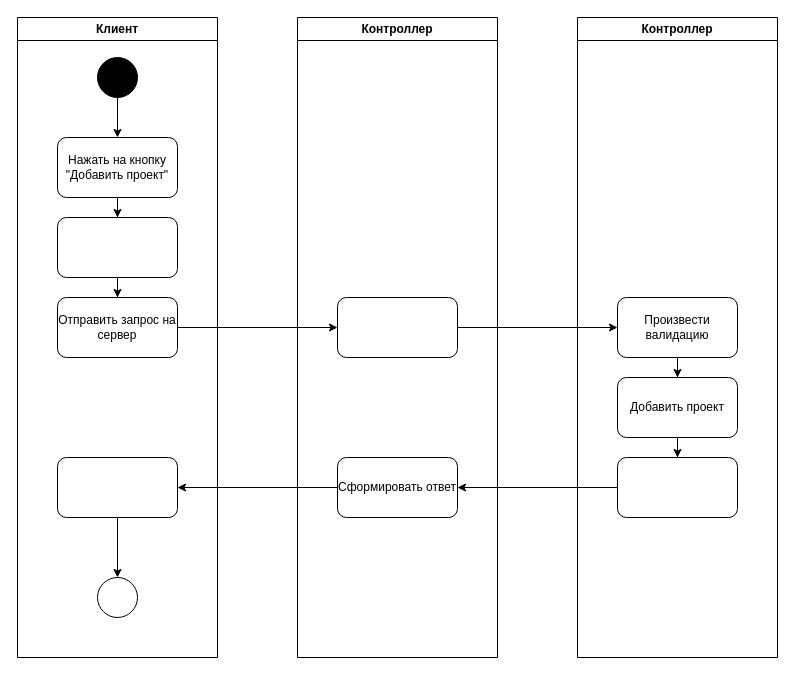
Image size: 795x675. Some labels were removed from this diagram. The shapes that lost their labels are listed below. From the top down, each one's centre as x and y in pixels, then its label:
point 117,247: Вызвать js функцию
point 397,327: Принять параметры запроса и передать в сервис
point 117,487: из функции добавить проект в вёрстку с соответствующим id
point 677,487: Получить id проекта и вернуть в контроллер
